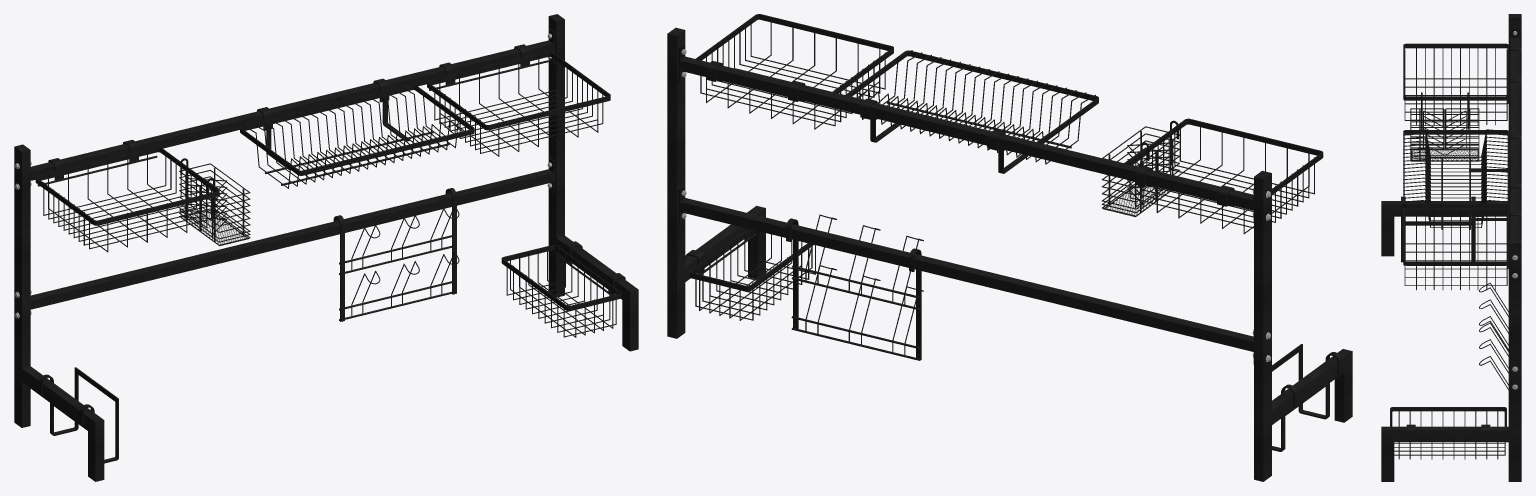
File: hadi10.glb
3 renders of one model, left to right at view 1: azimuth 30°, elevation 25°; view 2: azimuth 150°, elevation 25°; view 3: azimuth 270°, elevation 25°, orthographic. The views are drawn at different scales.
Visible parts, largest first — view 1: Group#2 [81401] (×2), Group#1 [81420] (×2), Group#28 [79710] (×2), Group#8 [79744], Group#11 [81358], Group#27 [81426]; view 2: Group#2 [81401] (×2), Group#1 [81420] (×2), Group#28 [79710] (×2), Group#8 [79744], Group#27 [81426], Group#11 [81358]; view 3: Group#1 [81420] (×2), Group#16 [40126] (×17), Group#28 [79710] (×2), Group#37 [42991] (×9), Group#2 [81401], Group#8 [79744], Group#27 [81426], Group#11 [81358], Group#41 [46932] (×2), Group#47 [81386], Group#7 [79711] (×2), Group#40 [46931] (+2 smaller).
Boxes of the visible parts, x1,y1,x2,y2 form: Group#2 [81401] (×2): (30,40,553,309); Group#1 [81420] (×2): (14,14,638,481); Group#28 [79710] (×2): (35,51,610,225); Group#8 [79744]: (240,84,474,175); Group#11 [81358]: (501,245,621,310); Group#27 [81426]: (39,367,118,463); Group#2 [81401] (×2): (680,56,1253,351); Group#1 [81420] (×2): (667,27,1352,481); Group#28 [79710] (×2): (695,14,1323,194); Group#8 [79744]: (845,50,1098,143); Group#27 [81426]: (1272,344,1341,451); Group#11 [81358]: (690,228,813,291); Group#1 [81420] (×2): (1381,14,1521,481); Group#16 [40126] (×17): (1403,129,1508,227); Group#28 [79710] (×2): (1403,43,1508,265); Group#37 [42991] (×9): (1404,49,1507,285); Group#2 [81401]: (1510,38,1519,239); Group#8 [79744]: (1403,130,1508,208); Group#27 [81426]: (1401,196,1475,262); Group#11 [81358]: (1390,407,1506,426); Group#41 [46932] (×2): (1410,136,1479,158); Group#47 [81386]: (1411,148,1478,161); Group#7 [79711] (×2): (1406,424,1490,440); Group#40 [46931]: (1410,108,1479,122).
Bounding box in the file's own units: 1.25 × 0.6 × 0.32.
Materials: 4 (3 with a texture image).
